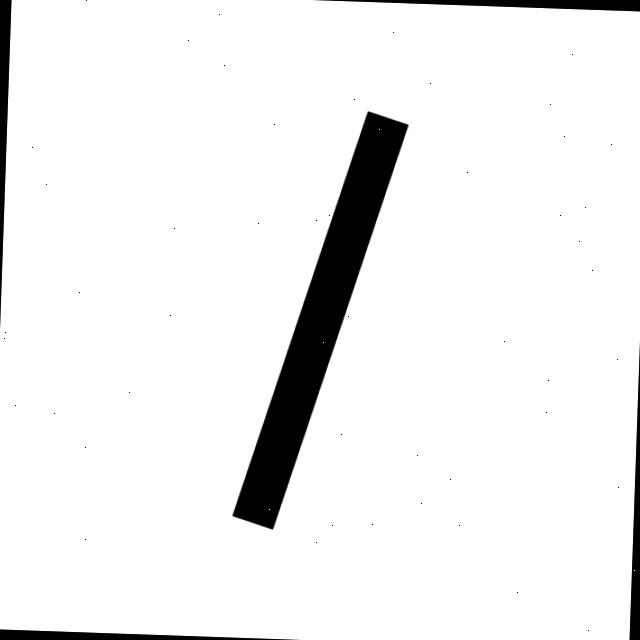line: (232, 111, 408, 529)
